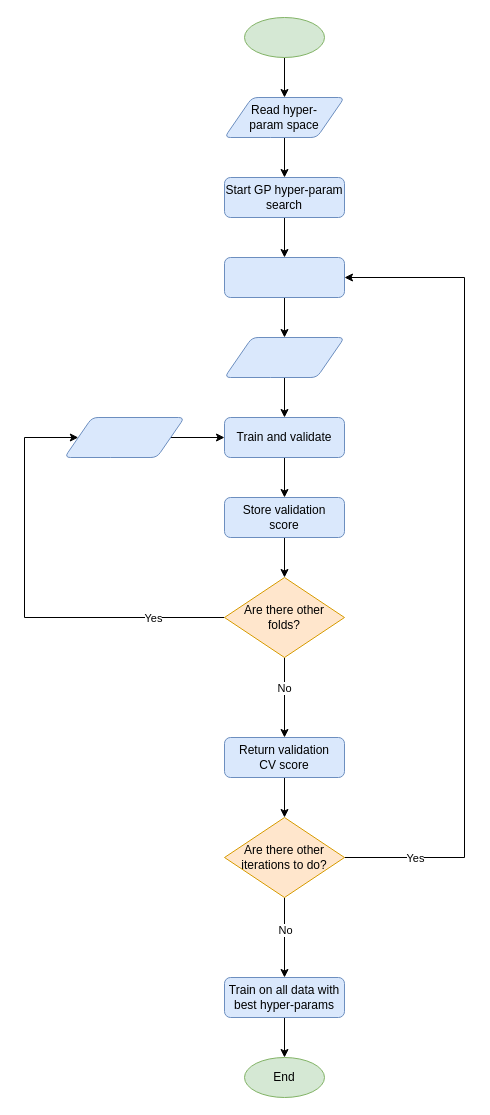
This 490x1115 diagram has some shape labels left out. Each missing label, with the box of its shape:
Pick a hyper-param config: (224, 256, 344, 298)
Read 1 st fold: (224, 336, 344, 378)
Read next fold: (64, 416, 184, 458)
Start: (244, 16, 324, 58)
